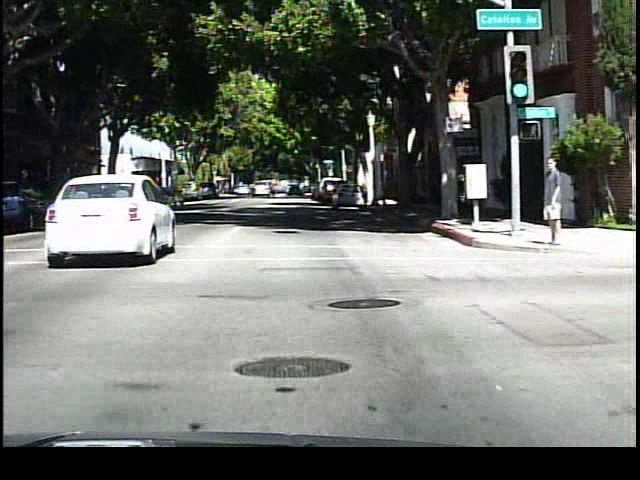person: (535, 151, 566, 251)
